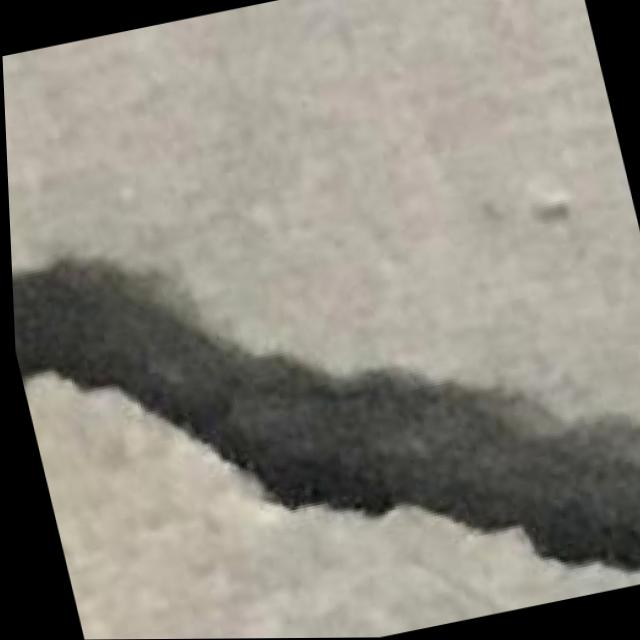Crack: (5, 131, 640, 640)
